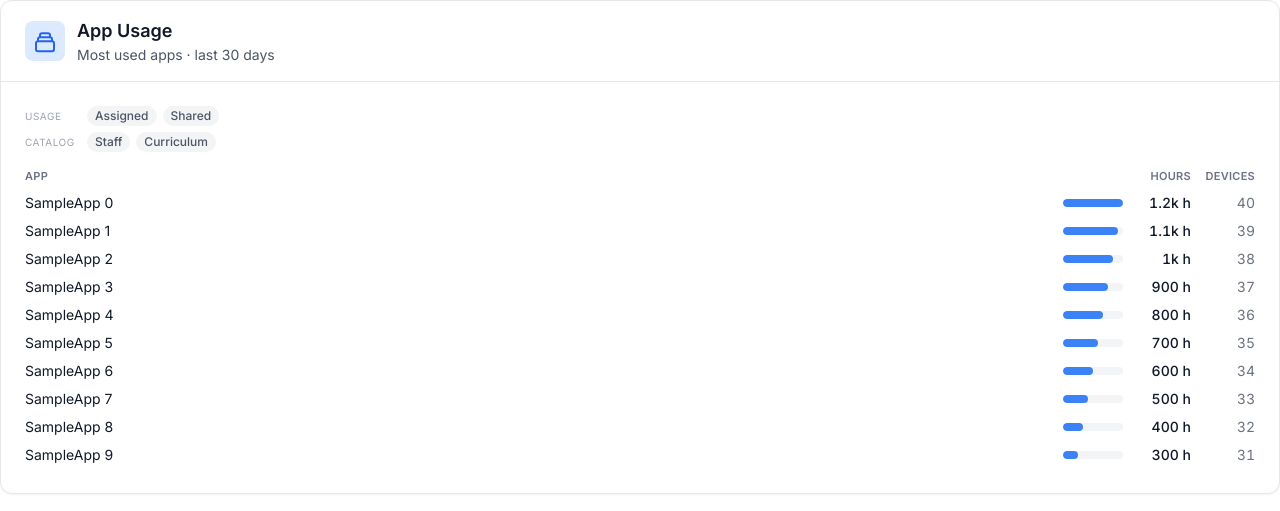
Scenario: AppUsageCard › shows the top ten and filters in place with the Usage chips
The image size is (1280, 511).
Expected: the text "SampleApp 0" is shown, x1=25 y1=194 x2=113 y2=210
Expected: the text "SampleApp 9" is shown, x1=25 y1=446 x2=113 y2=462
Click the button "Shared" at (191, 116), box x1=162 y1=106 x2=219 y2=126
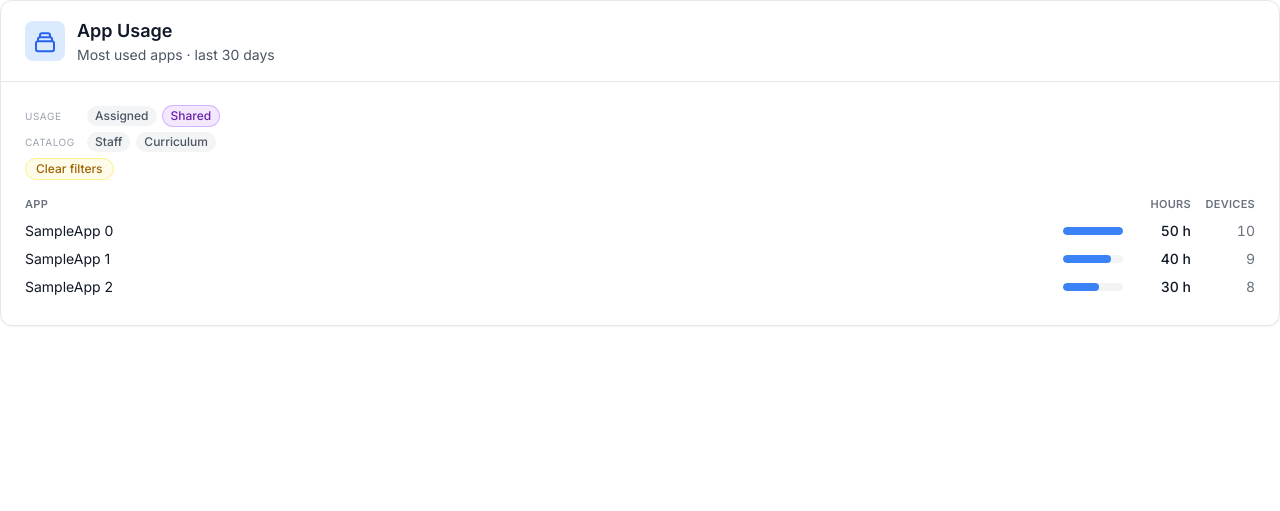
Now the link "SampleApp 9" is gone
